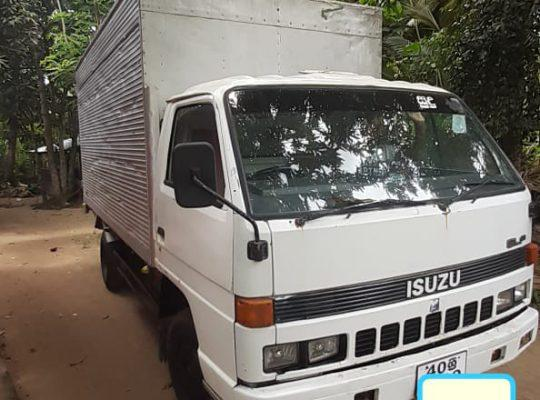truck: (75, 1, 537, 400)
